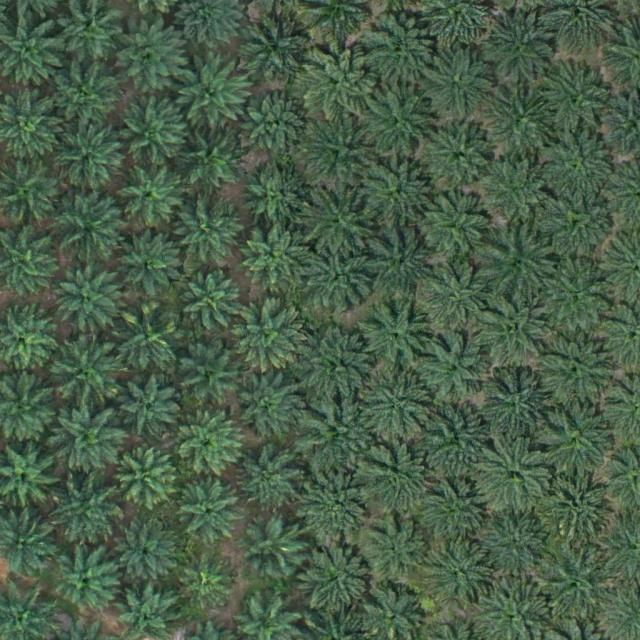Healthy: (242, 9, 320, 88), (304, 53, 382, 132), (50, 402, 128, 481), (231, 292, 309, 371), (228, 366, 306, 445), (301, 329, 379, 408), (301, 398, 379, 477), (362, 8, 440, 87), (423, 46, 501, 125), (483, 10, 561, 89), (483, 84, 561, 163), (364, 222, 442, 301), (481, 226, 559, 305), (474, 292, 552, 371), (479, 373, 557, 452), (537, 333, 615, 412), (537, 259, 615, 338), (541, 187, 619, 266), (541, 134, 619, 213), (299, 466, 377, 545), (356, 444, 434, 523), (476, 438, 554, 517), (544, 464, 622, 543), (538, 541, 616, 620), (173, 58, 251, 136), (306, 179, 384, 257), (361, 368, 439, 446), (296, 539, 374, 617), (361, 91, 432, 162), (421, 332, 492, 403), (476, 159, 547, 230), (115, 21, 185, 92), (54, 63, 124, 134), (53, 261, 123, 332), (52, 338, 122, 409), (175, 412, 245, 483), (306, 246, 376, 317), (50, 478, 121, 548), (425, 121, 495, 192), (364, 155, 435, 225), (422, 262, 492, 333), (422, 194, 492, 265), (477, 516, 547, 587), (542, 407, 612, 478), (56, 122, 126, 192), (56, 197, 126, 267), (118, 97, 188, 167), (174, 197, 244, 267), (238, 224, 308, 294), (359, 304, 429, 374), (117, 230, 180, 293), (180, 133, 243, 196), (177, 344, 240, 407), (547, 69, 610, 132), (419, 477, 482, 540), (119, 163, 181, 226), (181, 273, 243, 336), (247, 89, 309, 152), (244, 168, 306, 231), (310, 121, 372, 184), (243, 519, 305, 582), (115, 449, 178, 511), (117, 525, 179, 588), (55, 550, 117, 613), (364, 518, 426, 581), (431, 544, 493, 607), (121, 373, 183, 435), (238, 452, 300, 514), (180, 483, 242, 545), (426, 407, 488, 469), (181, 558, 236, 613)
Yellow: (112, 308, 182, 379)
